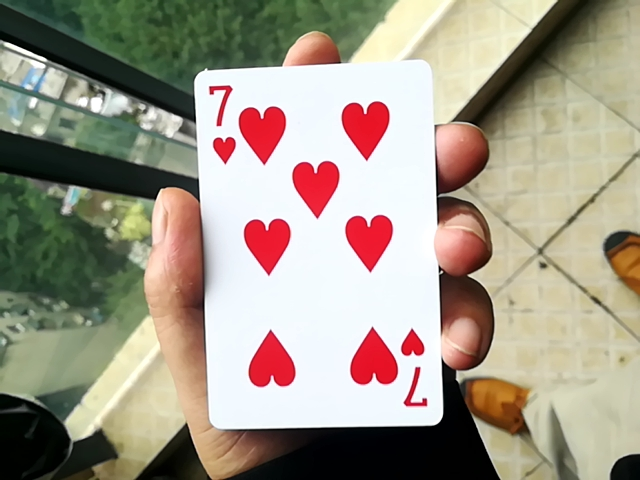hx 7: (184, 46, 438, 430)
